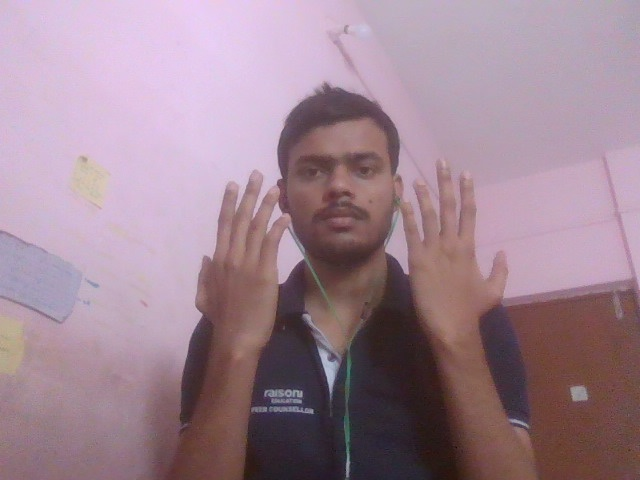allDone: (156, 164, 546, 349)
